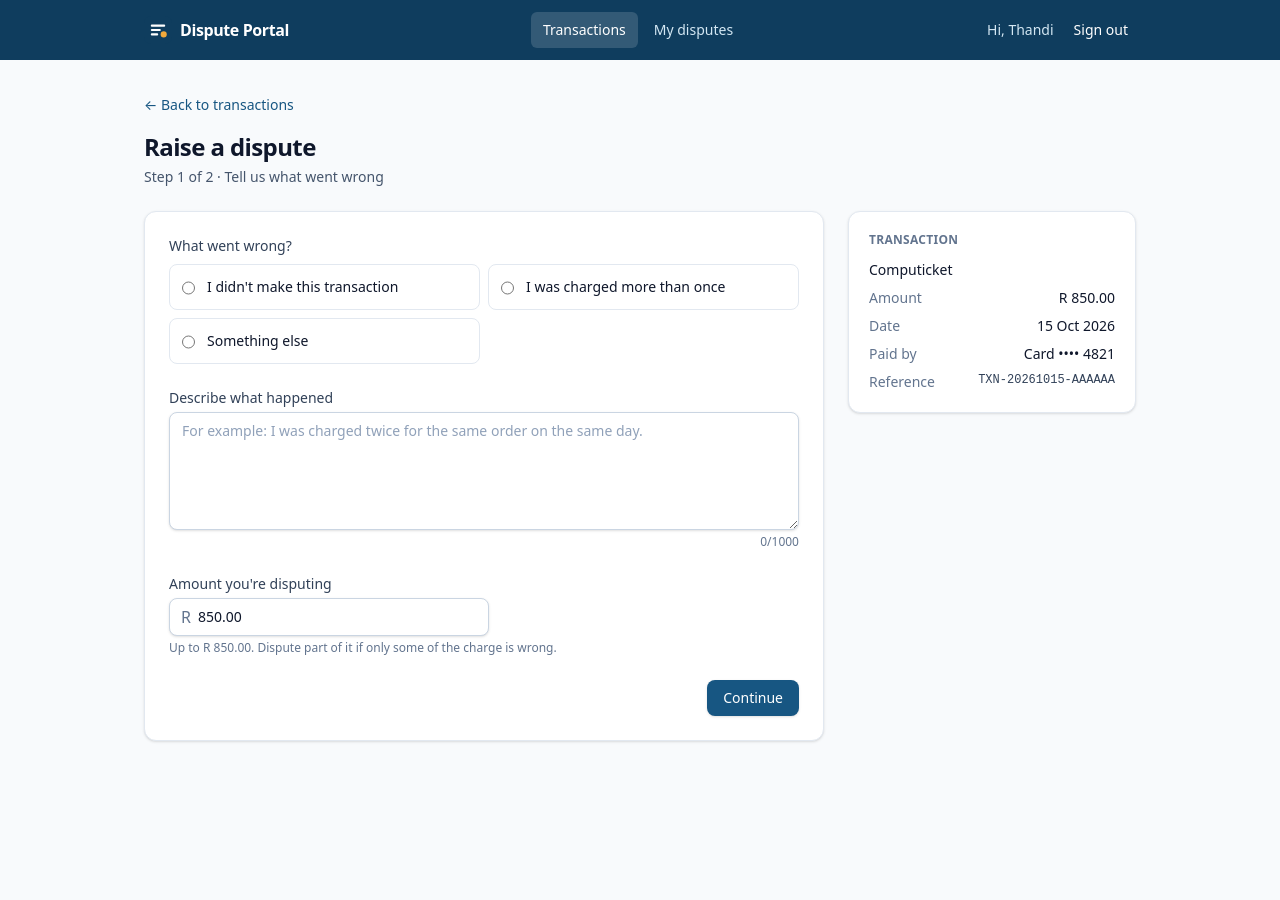
RaiseDisputePage › validates on Continue and points at each problem
This screenshot has width=1280, height=900.
Expected: the heading "Raise a dispute" is shown, [144,130,316,163]
Replace the text in the field labelled "Amount you're disputing" with "900" at (329, 617), box [169,598,489,636]
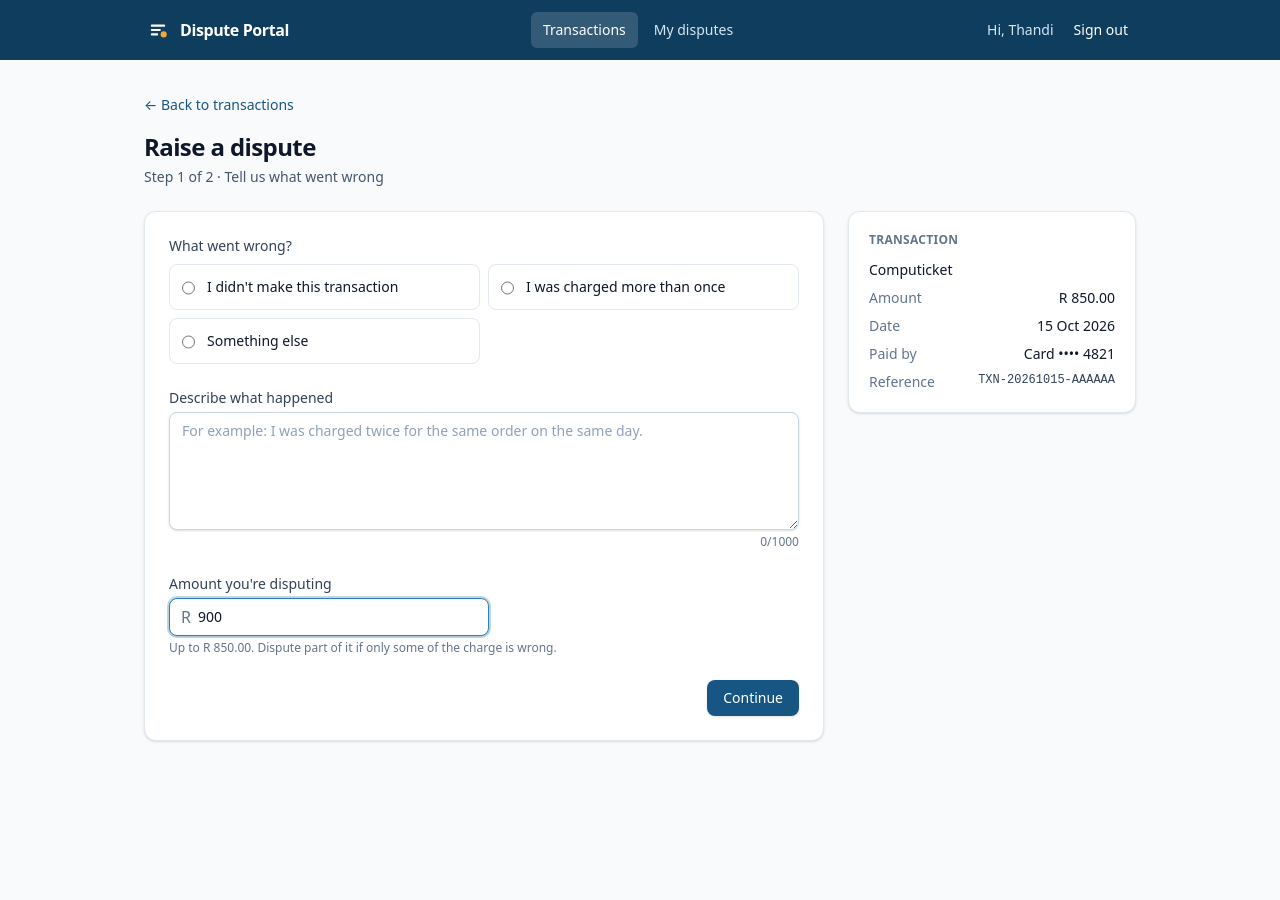
Type "too short" into the text box labelled "Describe what happened" at (484, 471), box [169,412,799,530]
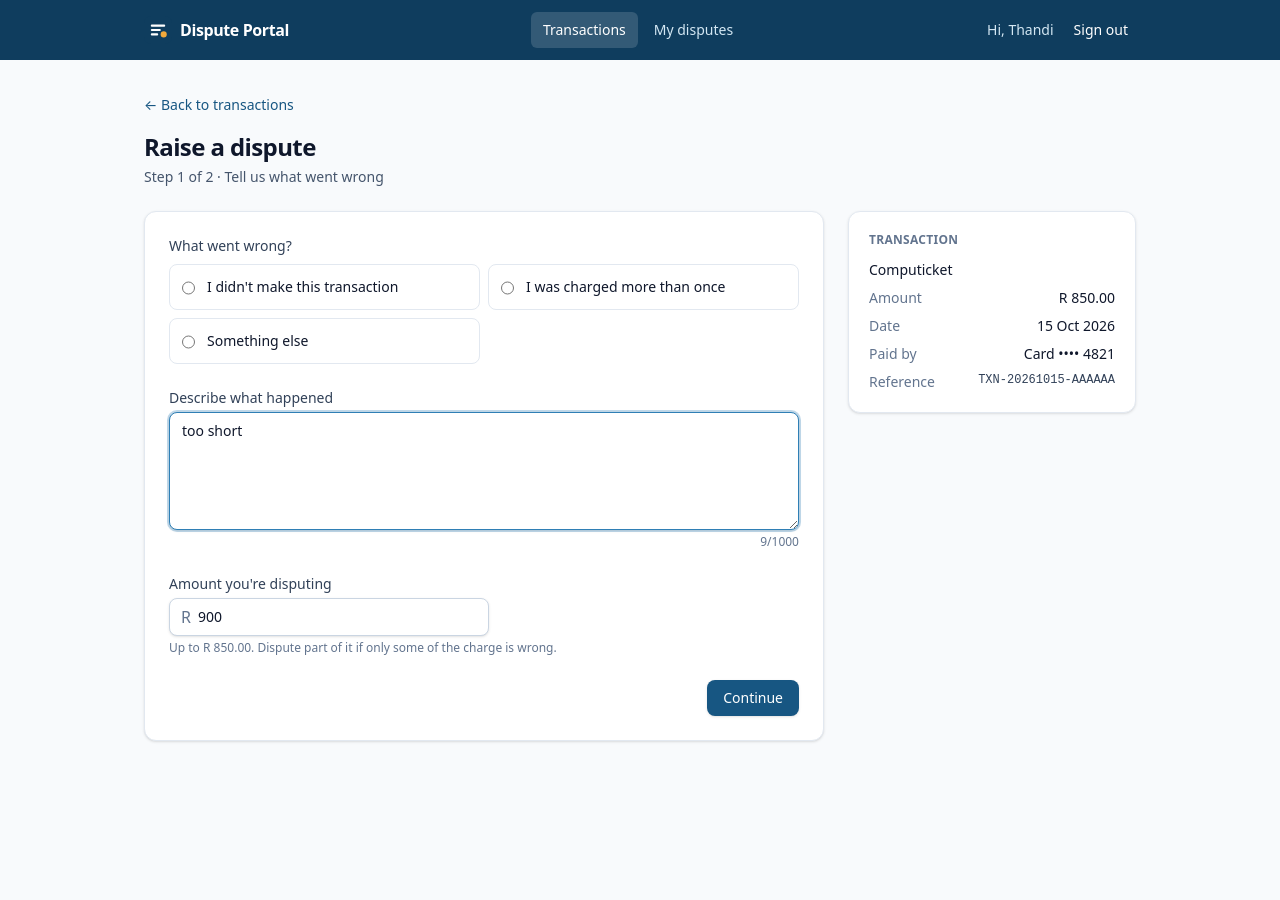
Click the button "Continue" at (753, 698), box [707,680,799,716]
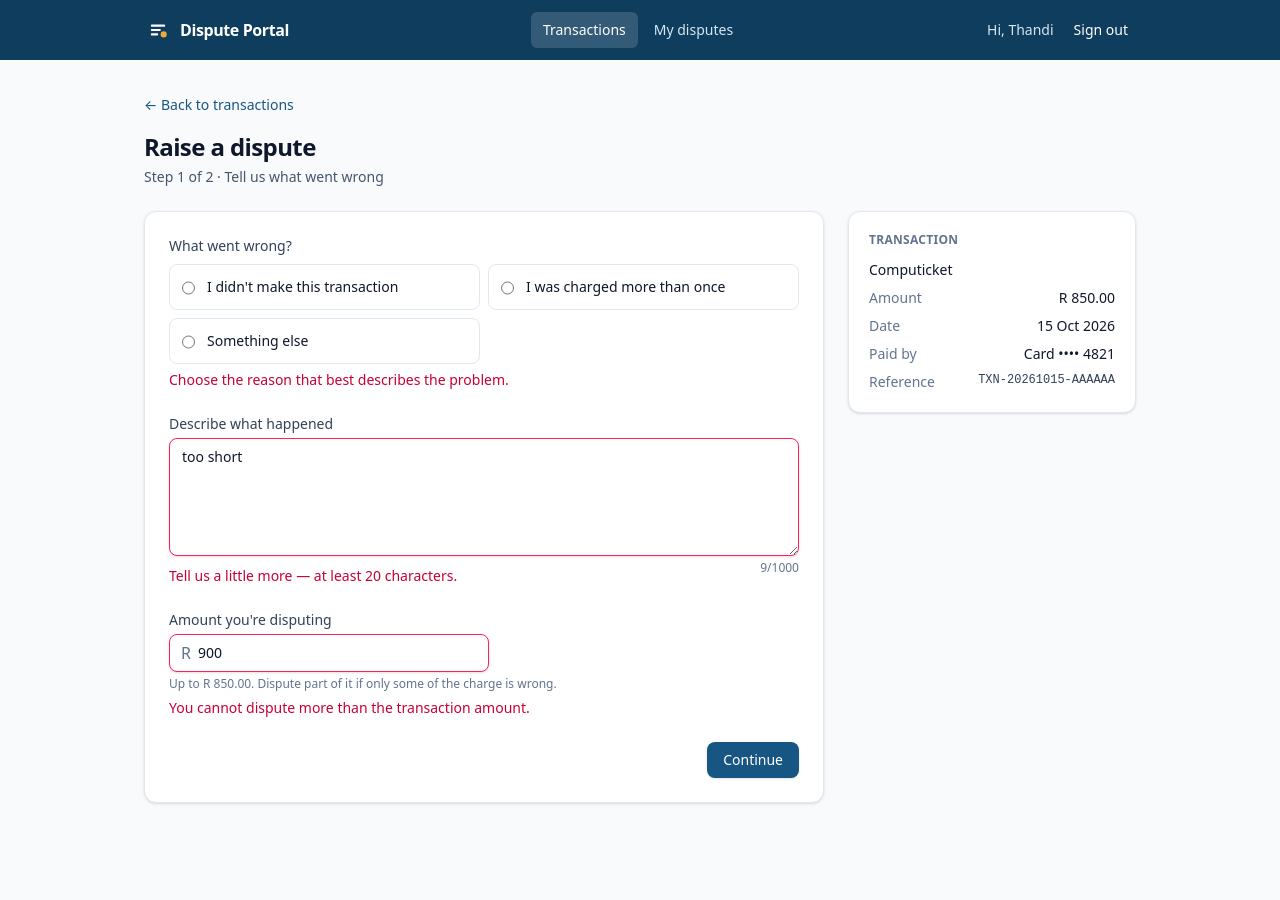
Now the text "Choose the reason that best describes the problem." is shown, box [169,370,509,389]
Now the text "Tell us a little more — at least 20 characters." is shown, box [169,566,457,586]
Now the text "You cannot dispute more than the transaction amount." is shown, box [169,698,530,717]
